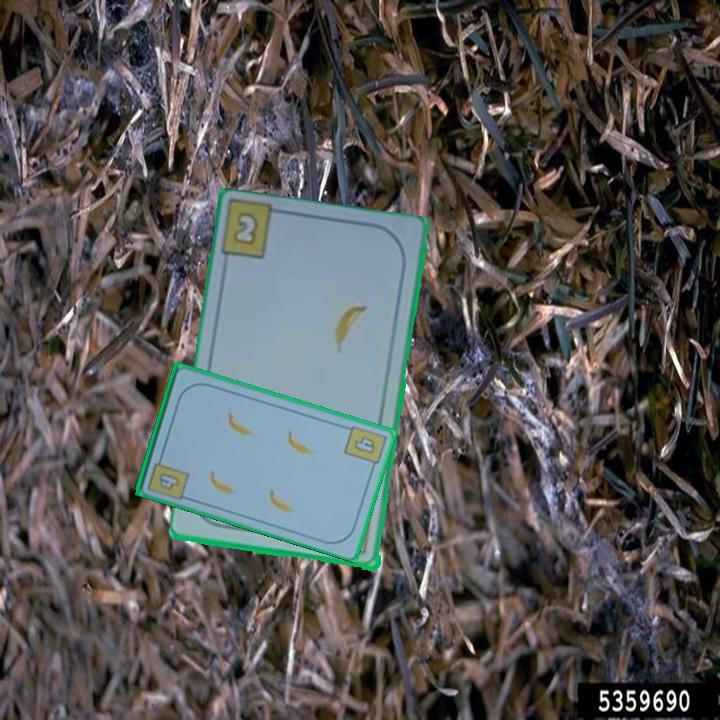2b: (229, 208, 261, 249)
4b: (340, 421, 388, 473), (155, 469, 183, 493)
